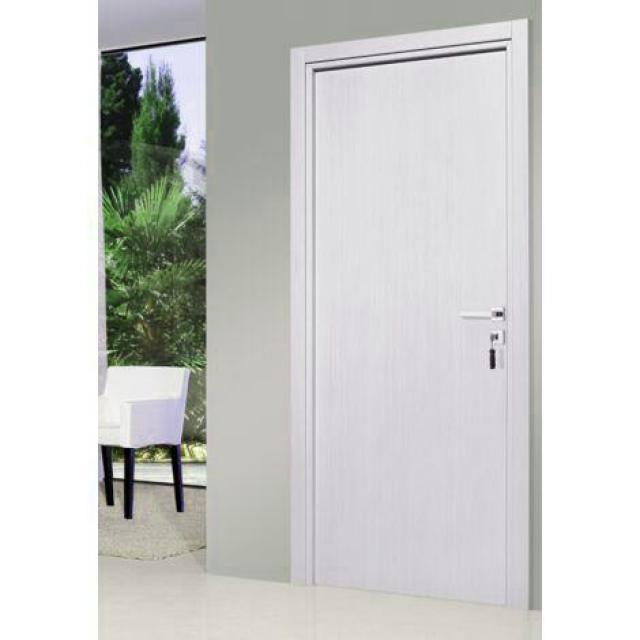door: (280, 15, 534, 626)
